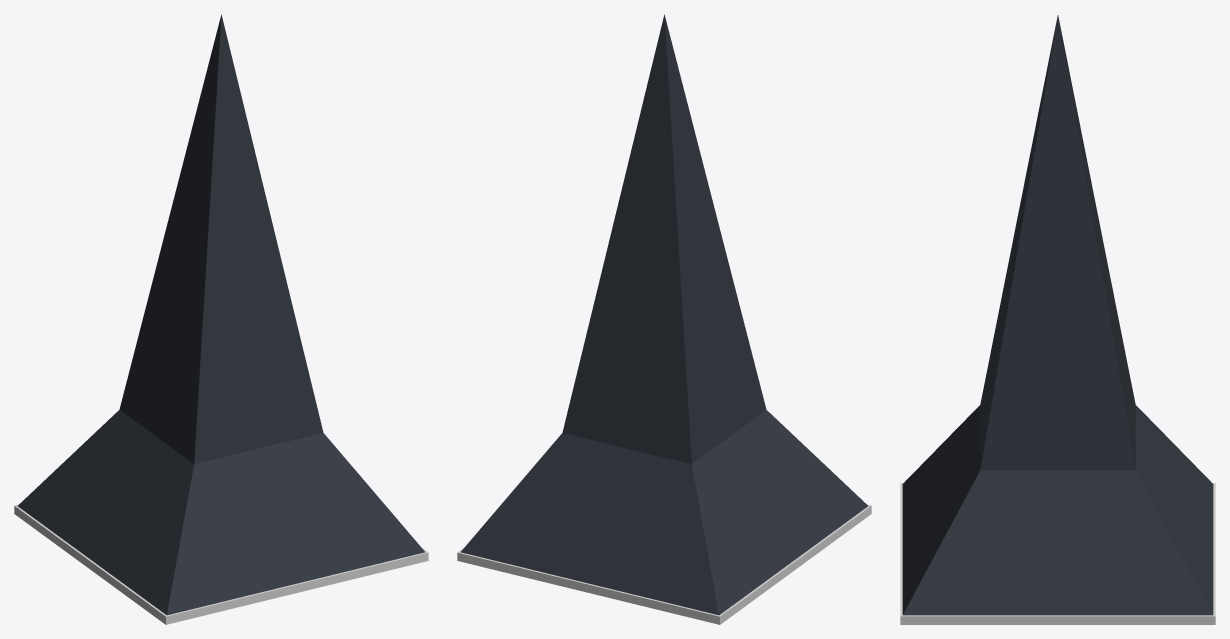
Rendered from SM_roof_churchTop.glb.
3 views of the same model, side by side, from view 1: azimuth 30°, elevation 25°; view 2: azimuth 150°, elevation 25°; view 3: azimuth 270°, elevation 25° (orthographic). The views are drawn at different scales.
Parts seen in each view (by area): view 1: SM_roof_churchTop; view 2: SM_roof_churchTop; view 3: SM_roof_churchTop.
Part boxes in pixels (x1=…): SM_roof_churchTop: x1=14, y1=14, x2=428, y2=624; SM_roof_churchTop: x1=457, y1=14, x2=871, y2=624; SM_roof_churchTop: x1=900, y1=15, x2=1215, y2=624.
Bounding box in the file's own units: 4.99 × 9.5 × 4.99.
Materials: 1 (1 with a texture image).
